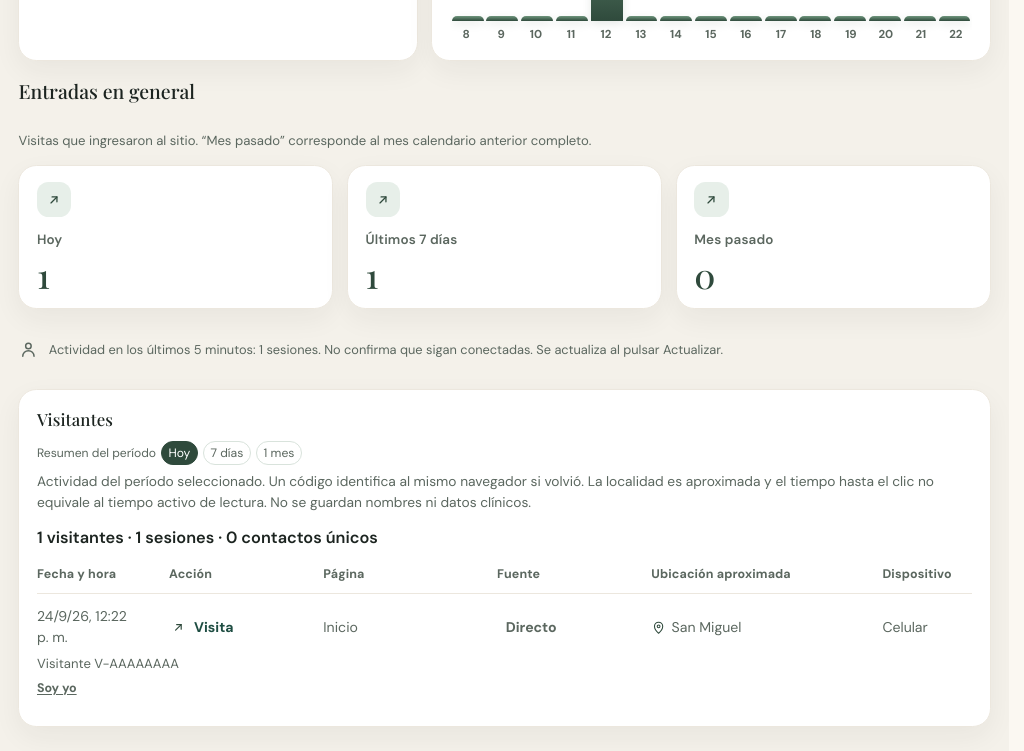
it: admin dashboard session › lets the clinic hide their own device from visitors
This screenshot has width=1024, height=751.
(page scrolled)
Expected: the text "1 visitantes · 1 sesiones · 0 contactos únicos" is shown, x1=37 y1=527 x2=378 y2=548
Expected: the text "Ubicación aproximada" is shown, x1=651 y1=566 x2=791 y2=582
Step 1. Click the button "Soy yo" → point(57, 688), box x1=37 y1=679 x2=77 y2=697
(page scrolled)
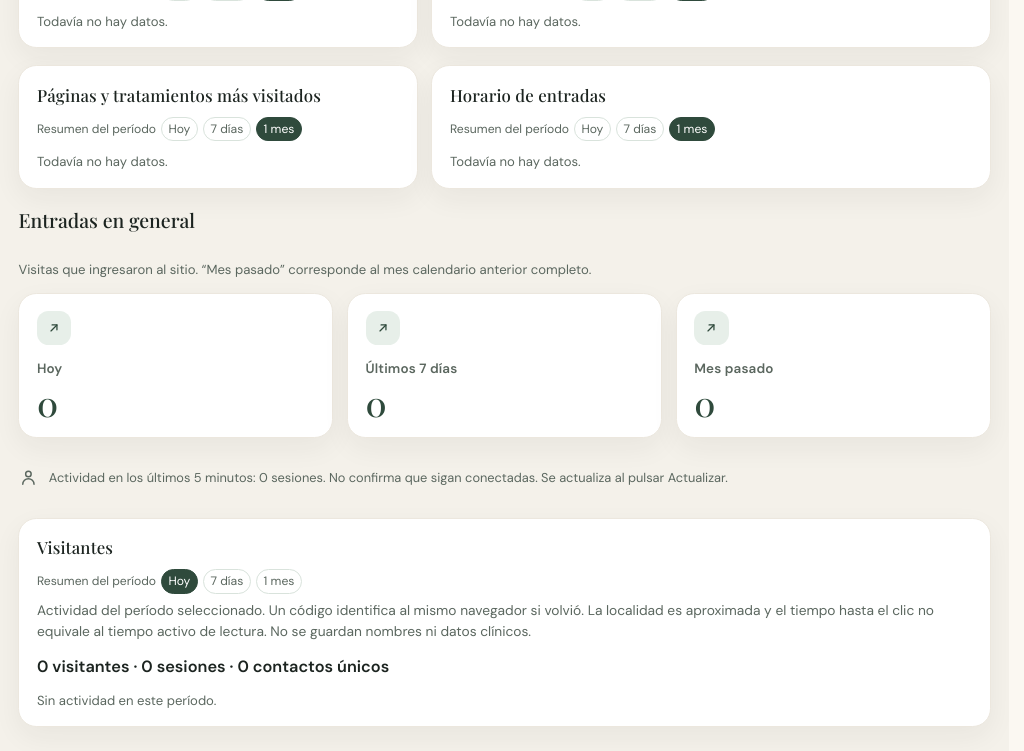
Expected: the text "0 visitantes · 0 sesiones · 0 contactos únicos" is shown, x1=37 y1=656 x2=389 y2=677
